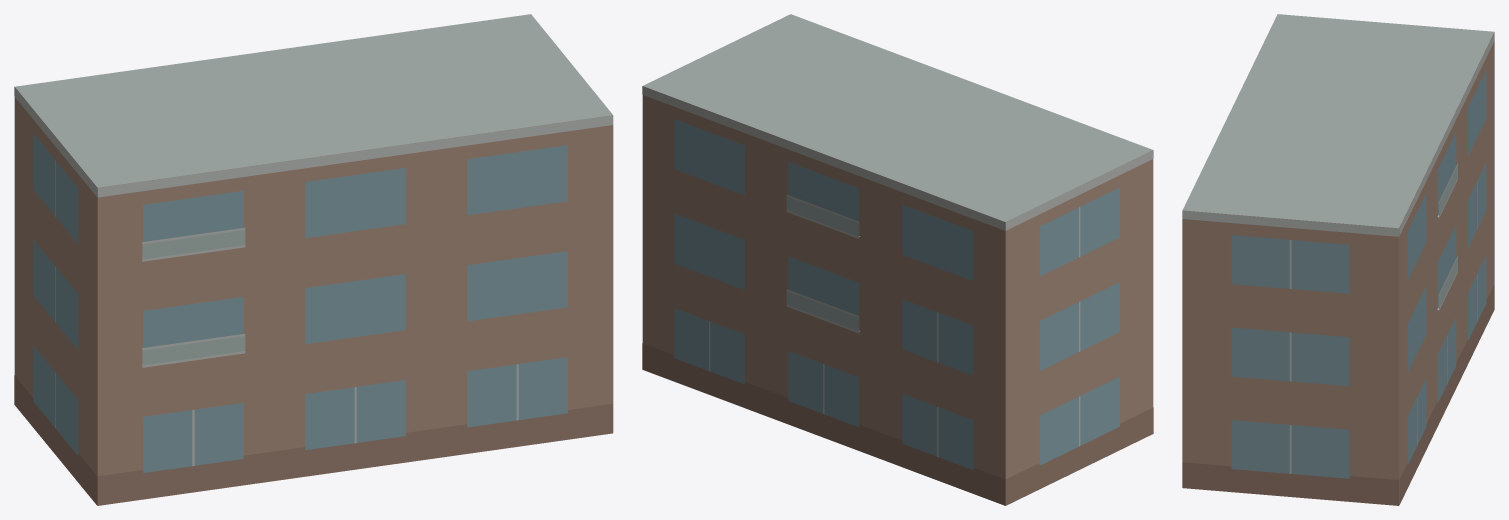
File: survey-upis-32710667.glb
The picture shows the model from 3 angles, left to right: view 1: azimuth 30°, elevation 25°; view 2: azimuth 150°, elevation 25°; view 3: azimuth 270°, elevation 25°; orthographic projection. The views are drawn at different scales.
Visible parts, largest first — view 1: survey-upis-32710667.tmp; view 2: survey-upis-32710667.tmp; view 3: survey-upis-32710667.tmp.
Boxes of the visible parts, bbox=[...] form: survey-upis-32710667.tmp: bbox=[14, 14, 613, 505]; survey-upis-32710667.tmp: bbox=[642, 14, 1153, 505]; survey-upis-32710667.tmp: bbox=[1182, 14, 1494, 505].
Bounding box in the file's own units: 13.09 × 7.9 × 8.06.
